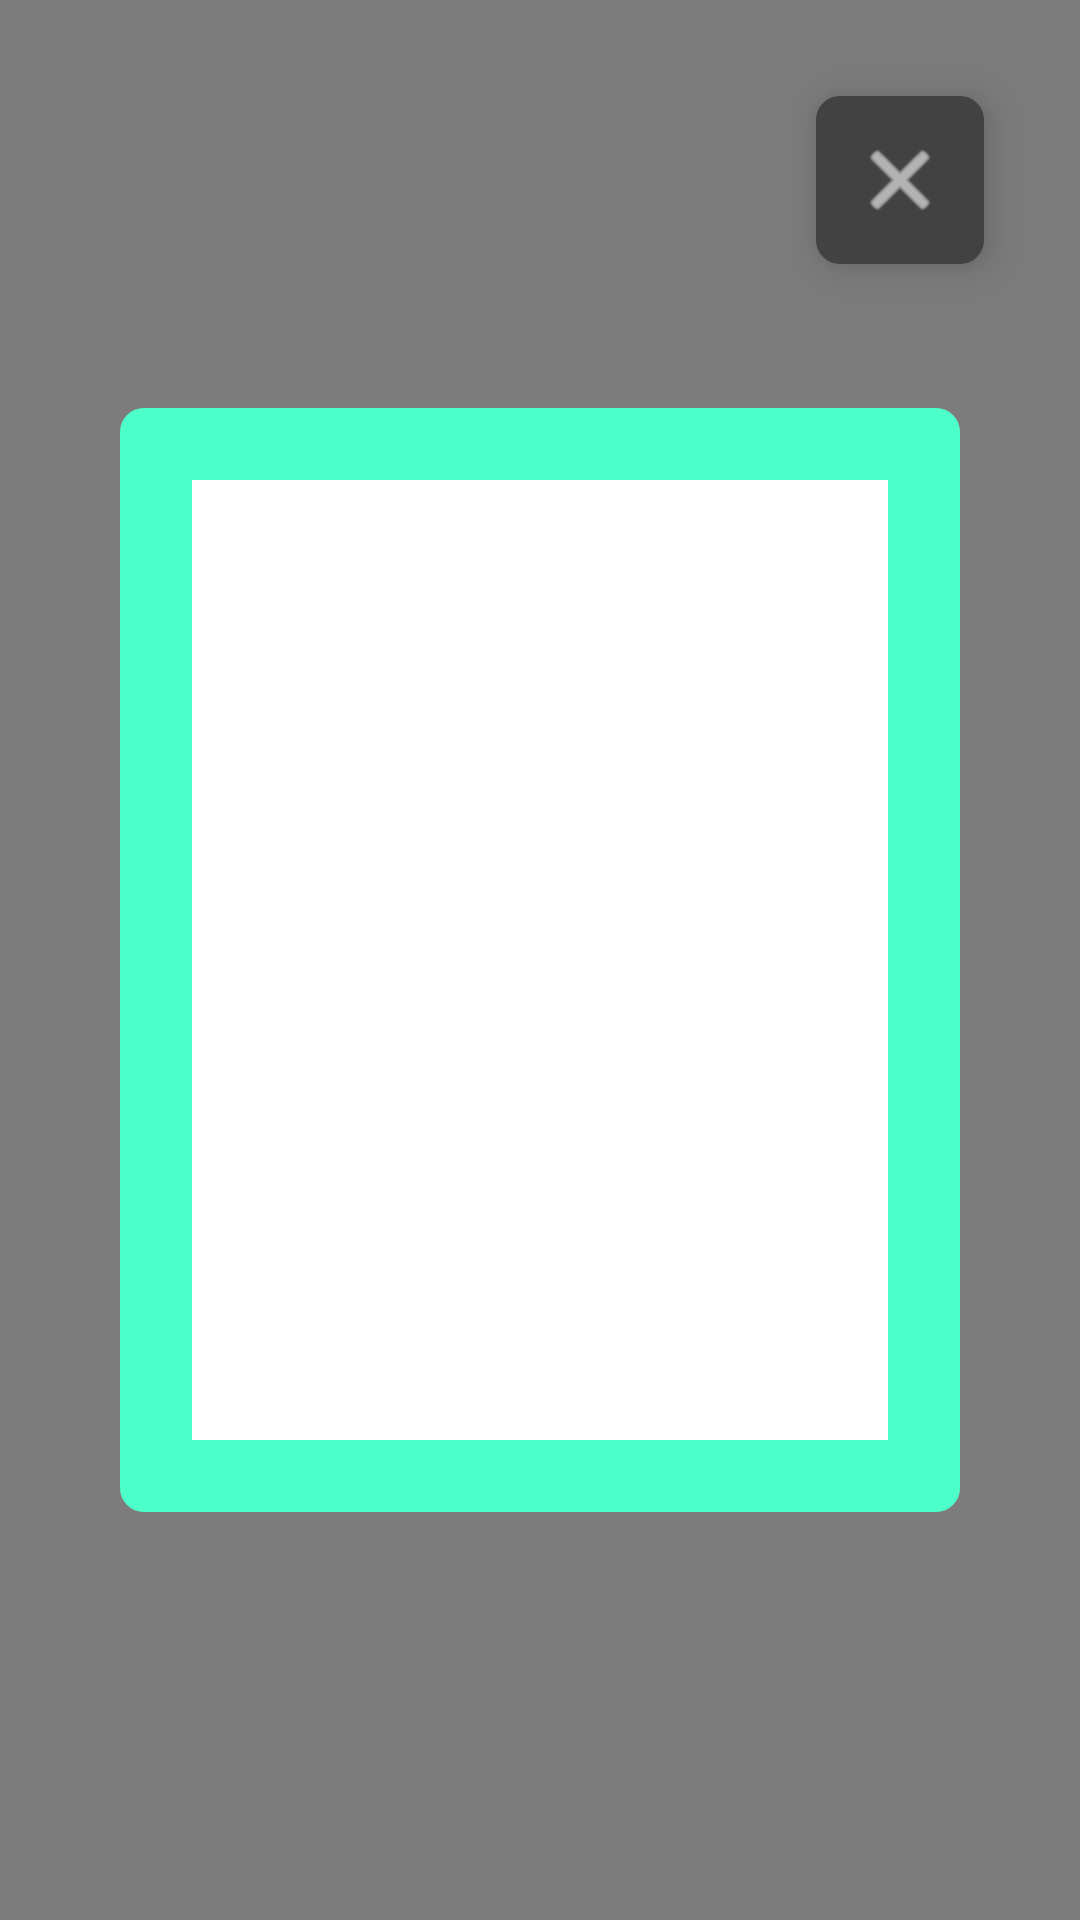

Named icons in this screenshot (1080*1920) and their bounding boxes, (x1, y1, x2, y2):
Close: (816, 96, 984, 264)
